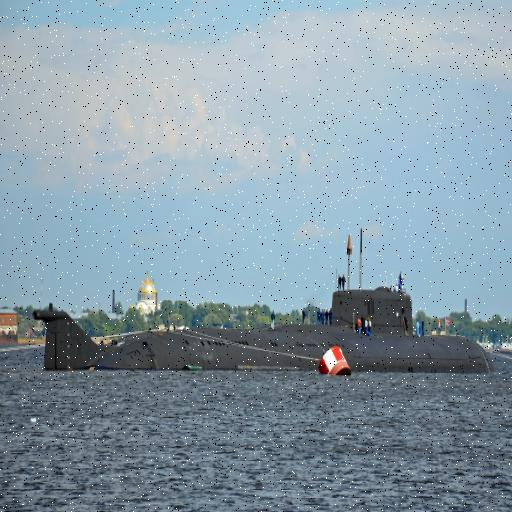submarine: (35, 289, 499, 377)
